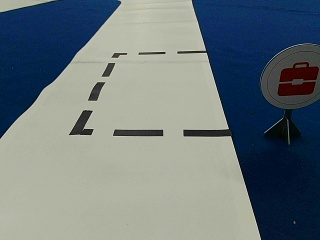company: (260, 43, 318, 108)
